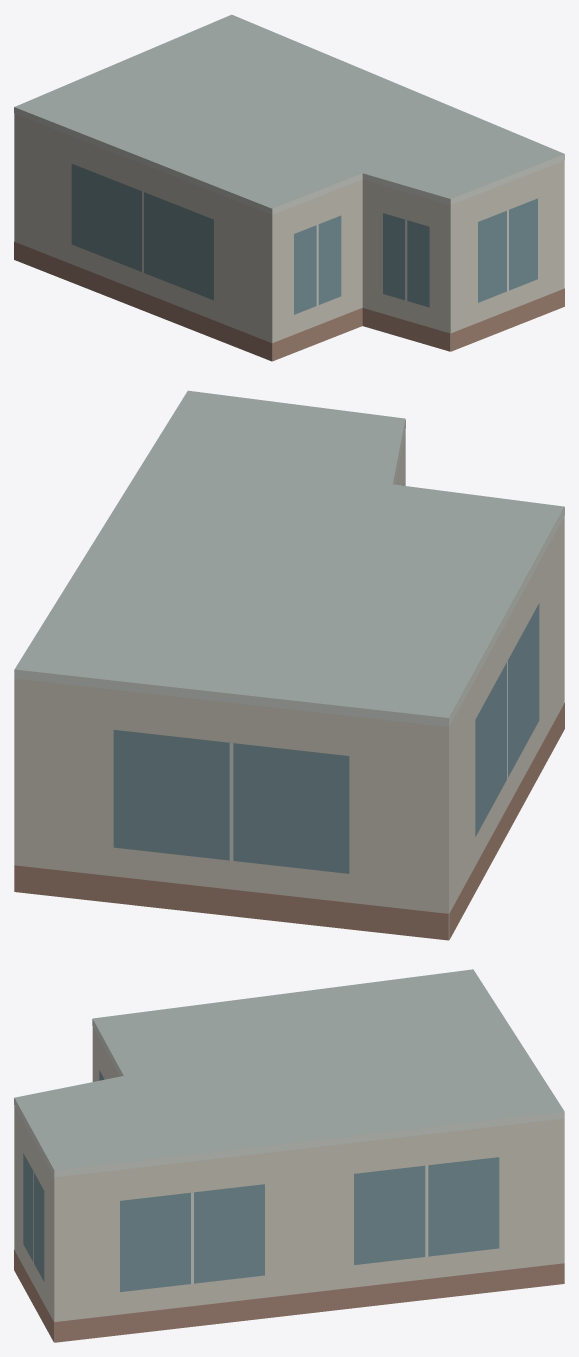
Rendered from survey-upis-32607021.glb.
The picture shows the model from 3 angles, top to bottom: view 1: azimuth 30°, elevation 25°; view 2: azimuth 150°, elevation 25°; view 3: azimuth 270°, elevation 25°; orthographic projection. The views are drawn at different scales.
Parts seen in each view (by area): view 1: survey-upis-32607021.tmp; view 2: survey-upis-32607021.tmp; view 3: survey-upis-32607021.tmp.
Part boxes in pixels (x1=…): survey-upis-32607021.tmp: x1=14, y1=14, x2=564, y2=361; survey-upis-32607021.tmp: x1=14, y1=390, x2=564, y2=940; survey-upis-32607021.tmp: x1=14, y1=969, x2=564, y2=1342.
Size of the model in its own units: 7.64 by 3.05 by 8.84.
